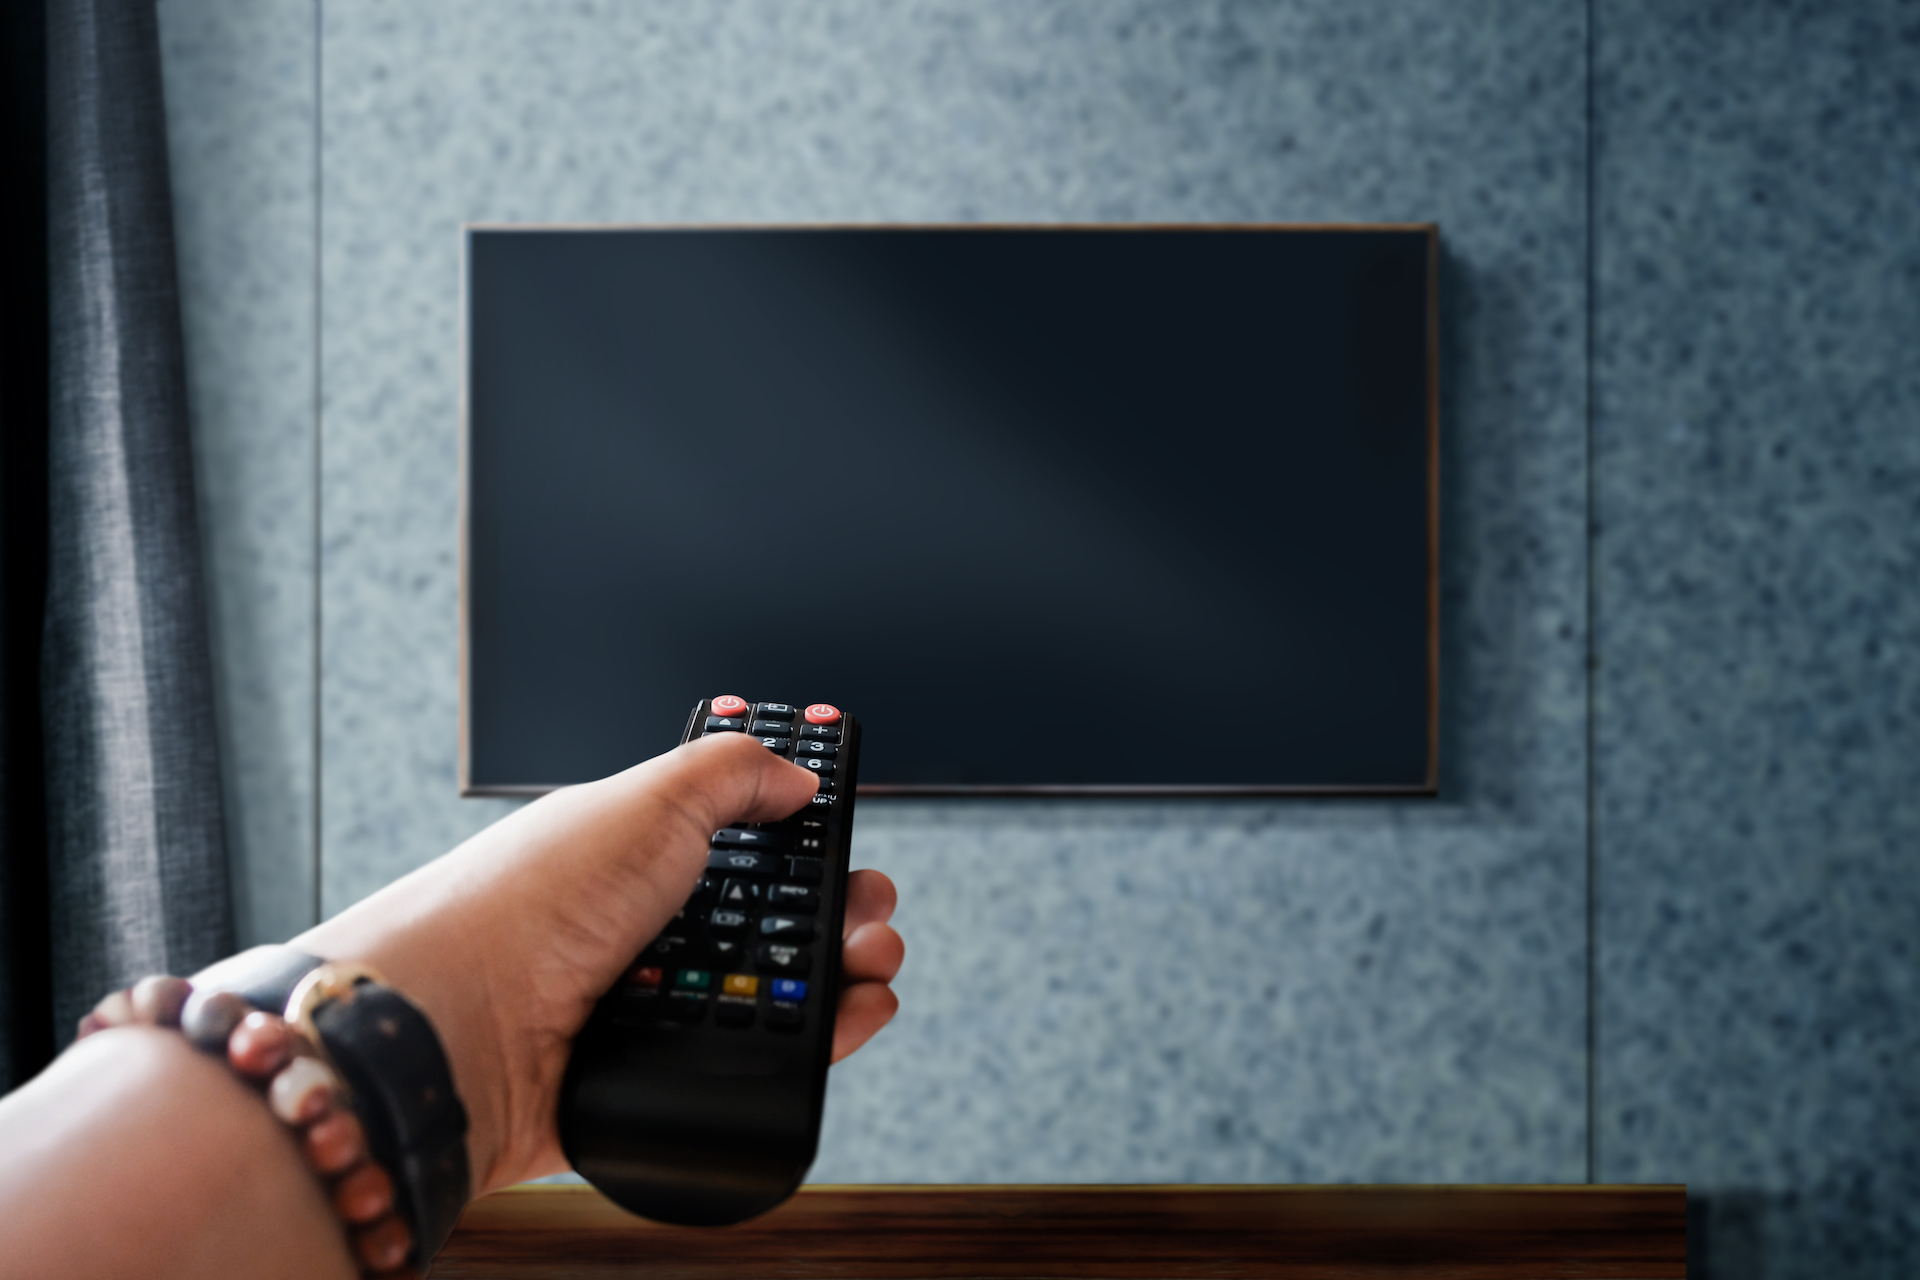tv: (420, 220, 1474, 860)
